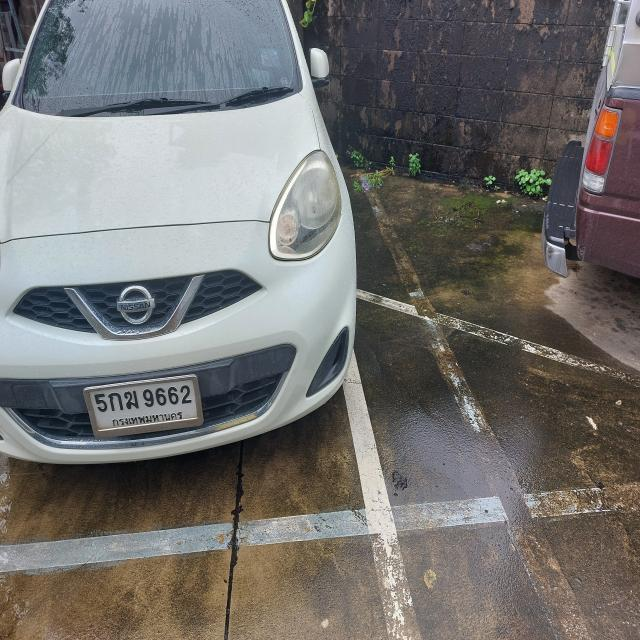license_plate: (83, 370, 208, 444)
